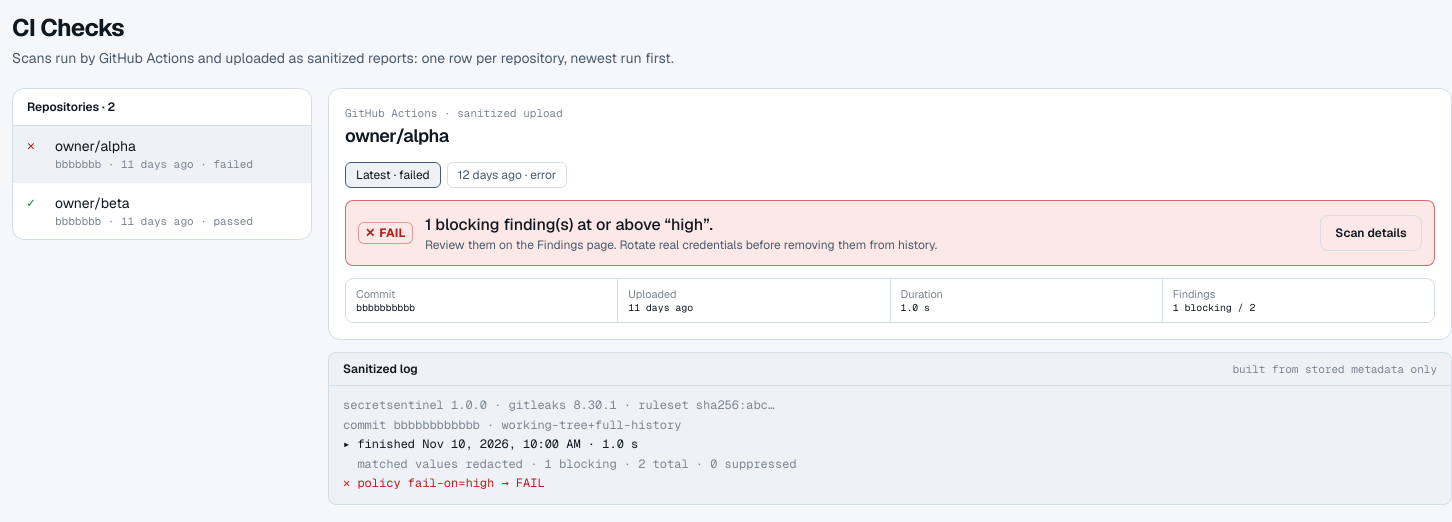
Test: CiChecks › switches to an older run and explains a failed scan
Click the button "12 days ago · error" at (507, 174), box [447,162,567,188]
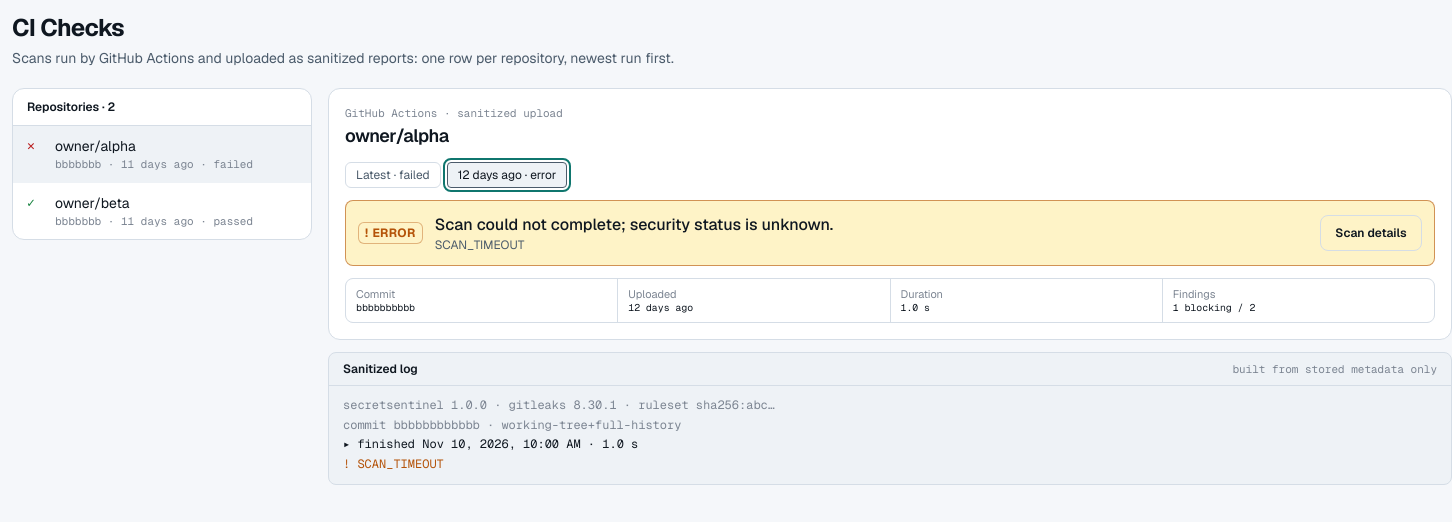
Expected: the text "Scan could not complete; security status is unknown." is shown, [435,214,833,234]
Expected: the text "! SCAN_TIMEOUT" is shown, [343,456,444,472]
